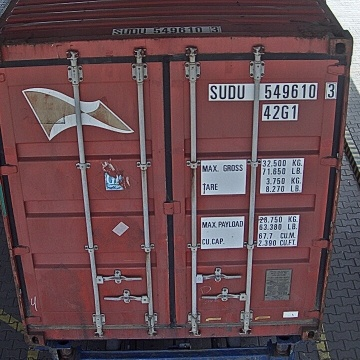serial_id: (210, 84, 335, 99)
